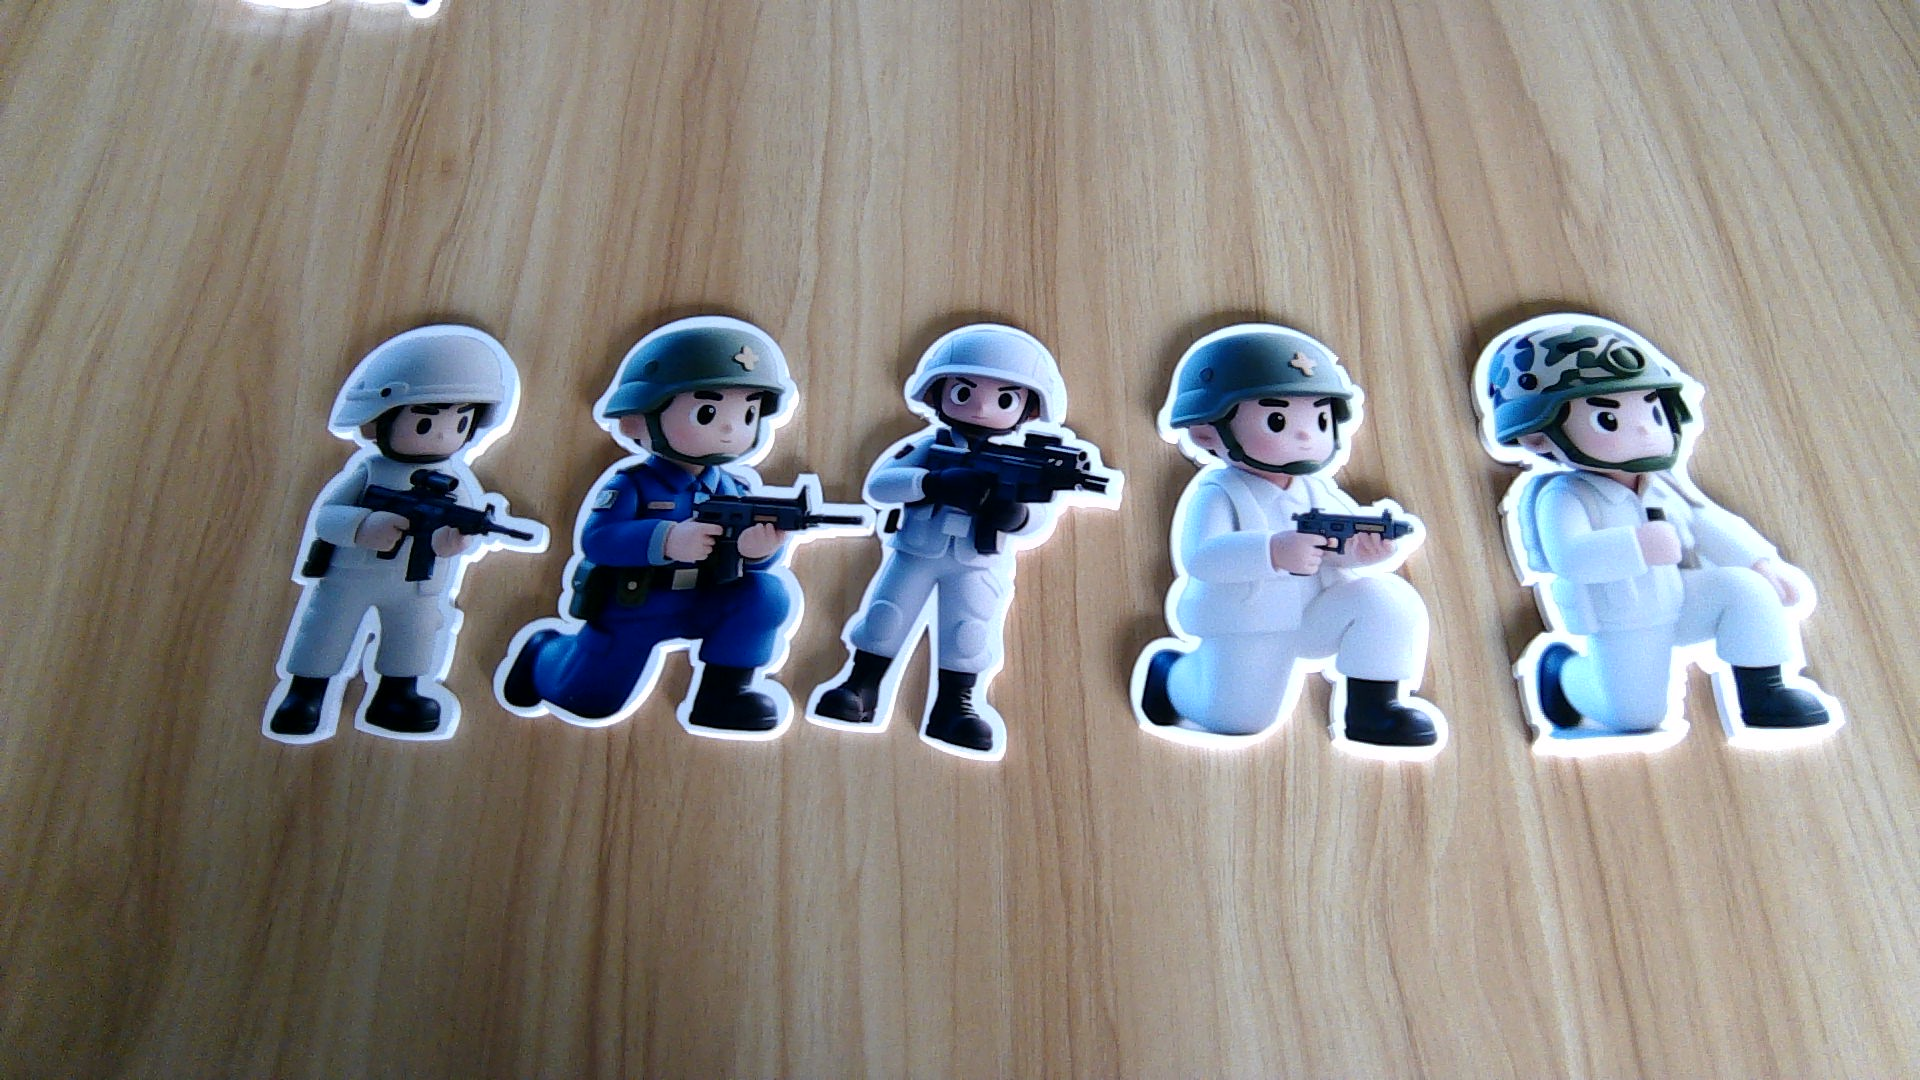人质: (1476, 468, 1855, 762), (818, 429, 1095, 765), (1131, 476, 1447, 761), (257, 459, 488, 738)
敌人2: (502, 468, 812, 738)
